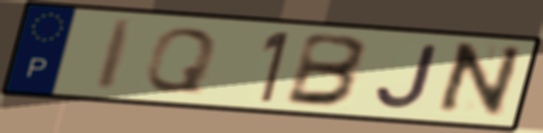1: (259, 30, 292, 105)
B: (281, 30, 372, 109)
I: (92, 17, 140, 94)
J: (372, 41, 442, 111)
N: (430, 40, 527, 121)
Q: (139, 25, 221, 95)
